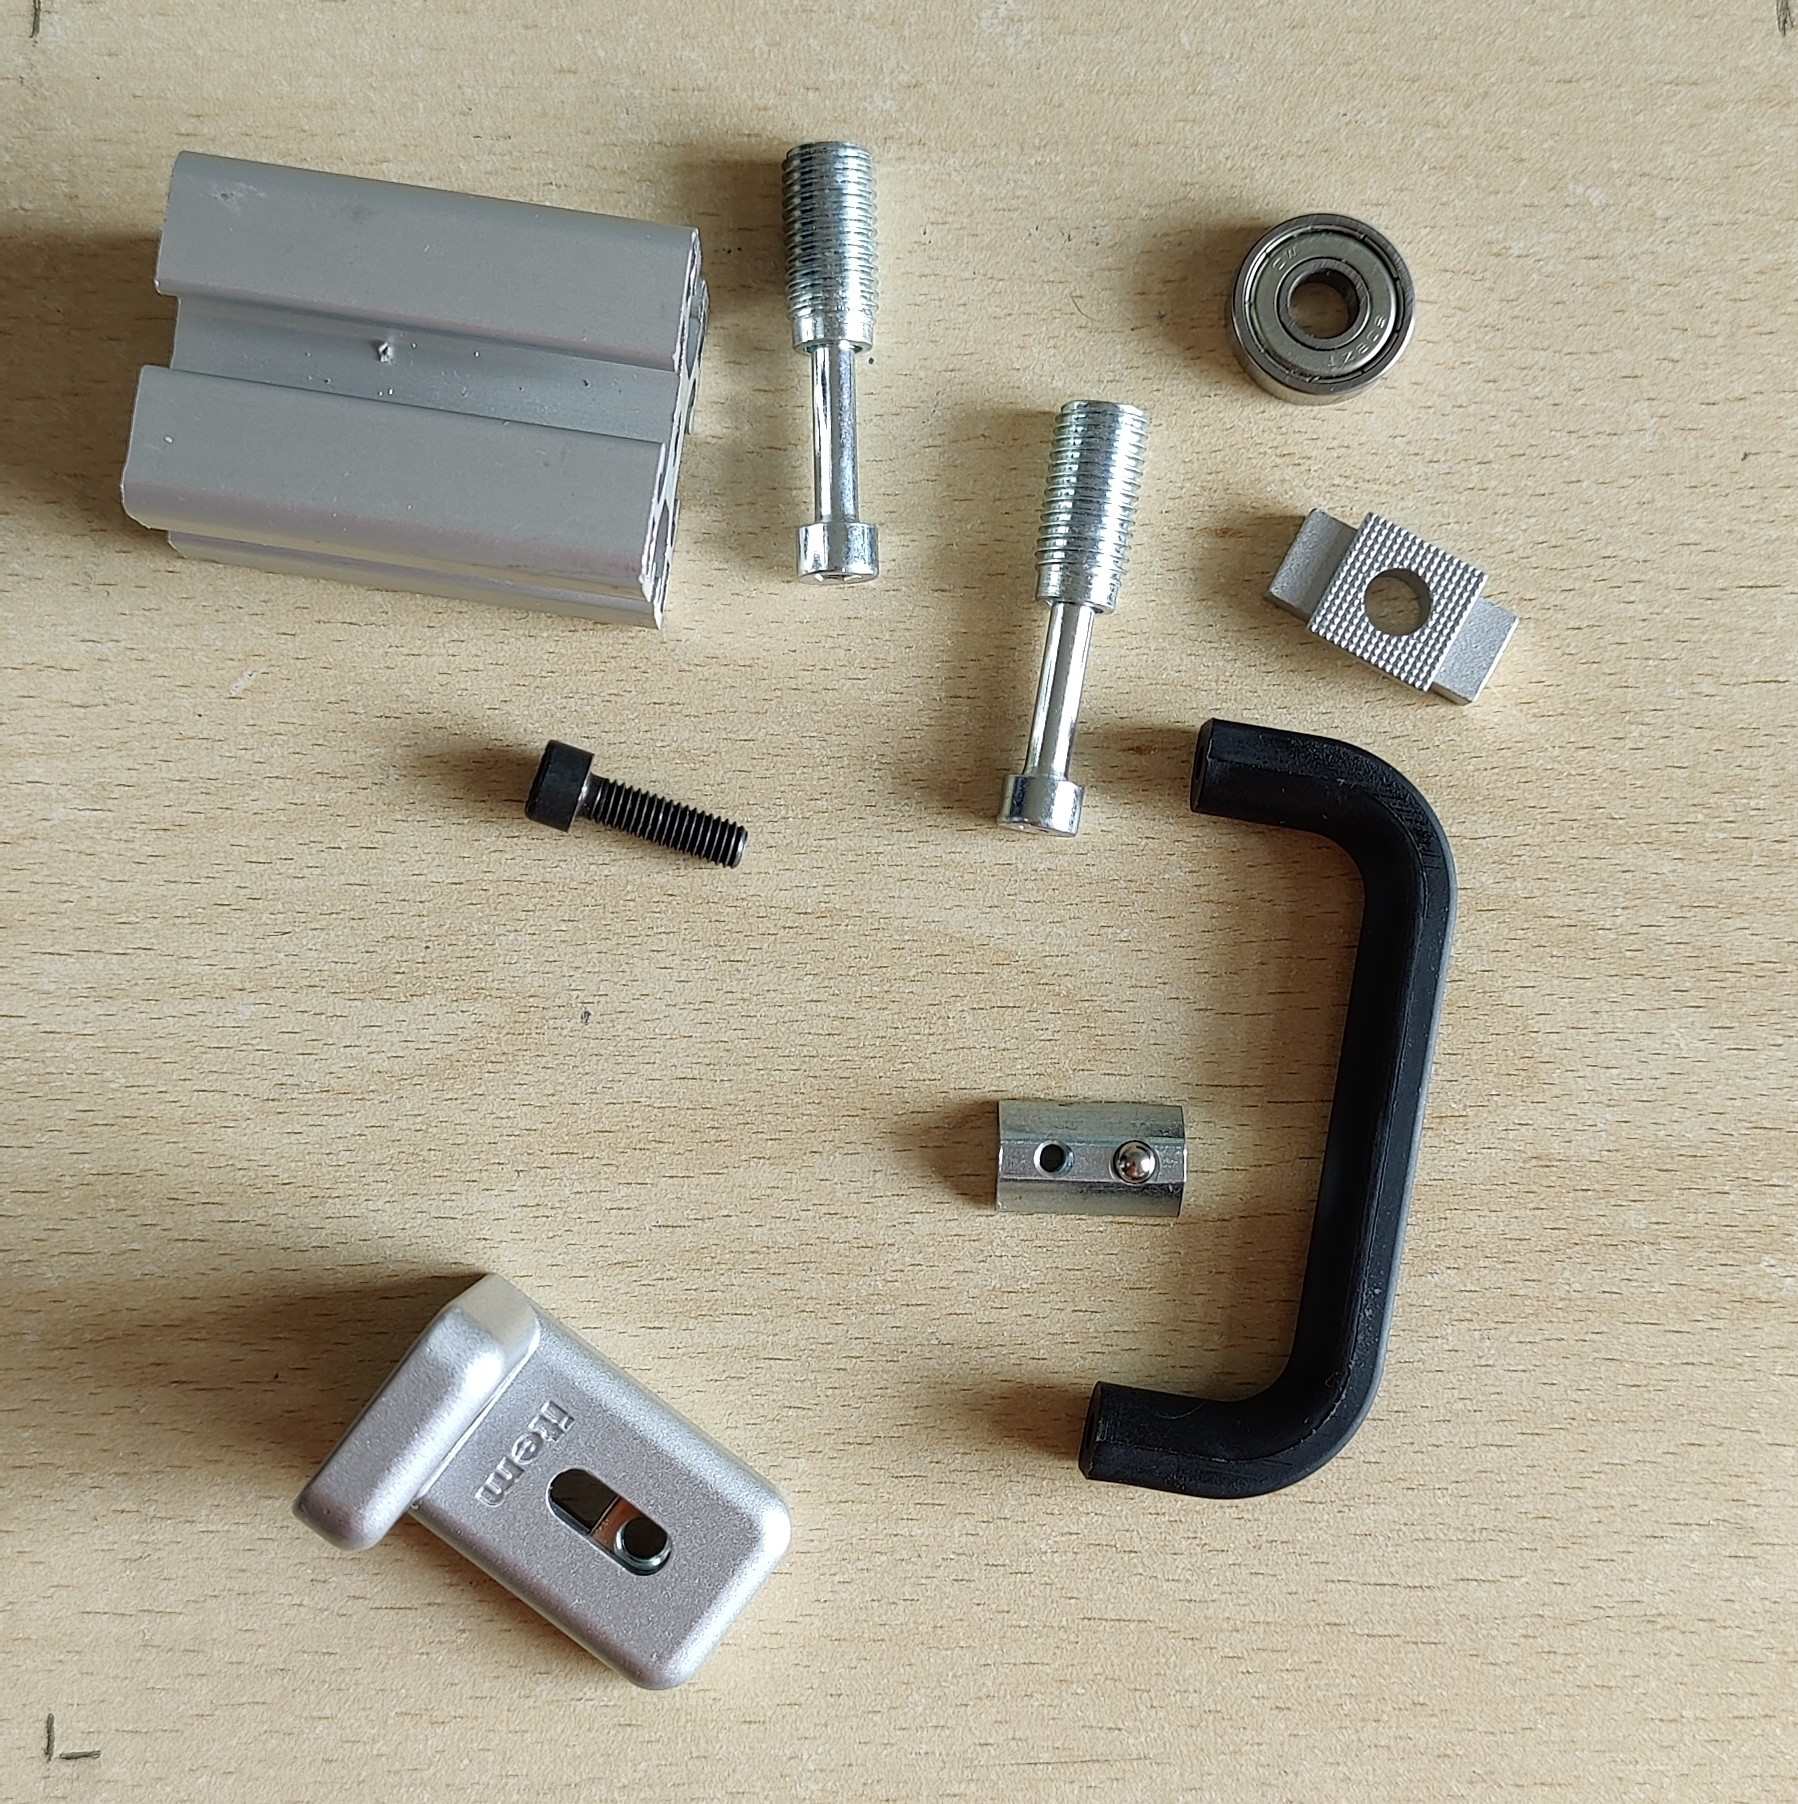Aluminium Extension: (119, 145, 713, 634)
Ball Bearing: (1225, 211, 1419, 408)
Multiwinkel: (290, 1267, 795, 1692)
Pull Handle: (1077, 714, 1460, 1501)
Shoulder Socket Head Cap Screw: (991, 397, 1154, 841), (777, 140, 884, 588)
Socket Head Cap Screw: (522, 731, 751, 871)
T Nut Square: (1266, 505, 1525, 708)
T Spring Nut: (990, 1096, 1189, 1221)
